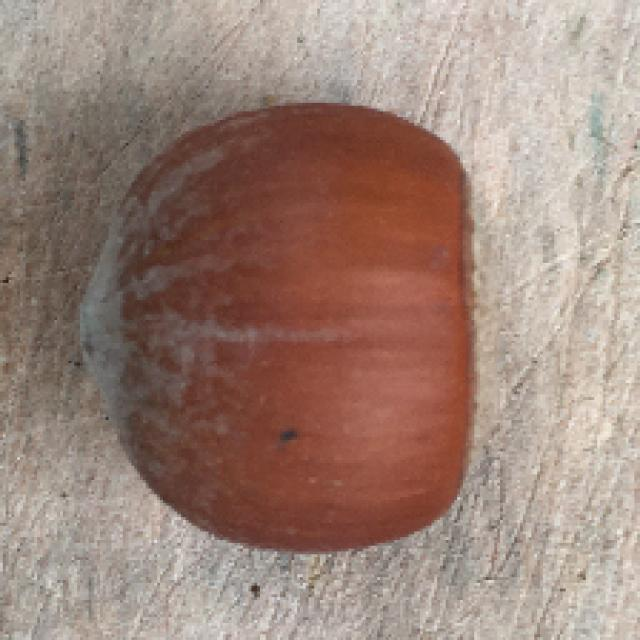QualityHazelnut: (75, 103, 471, 554)
